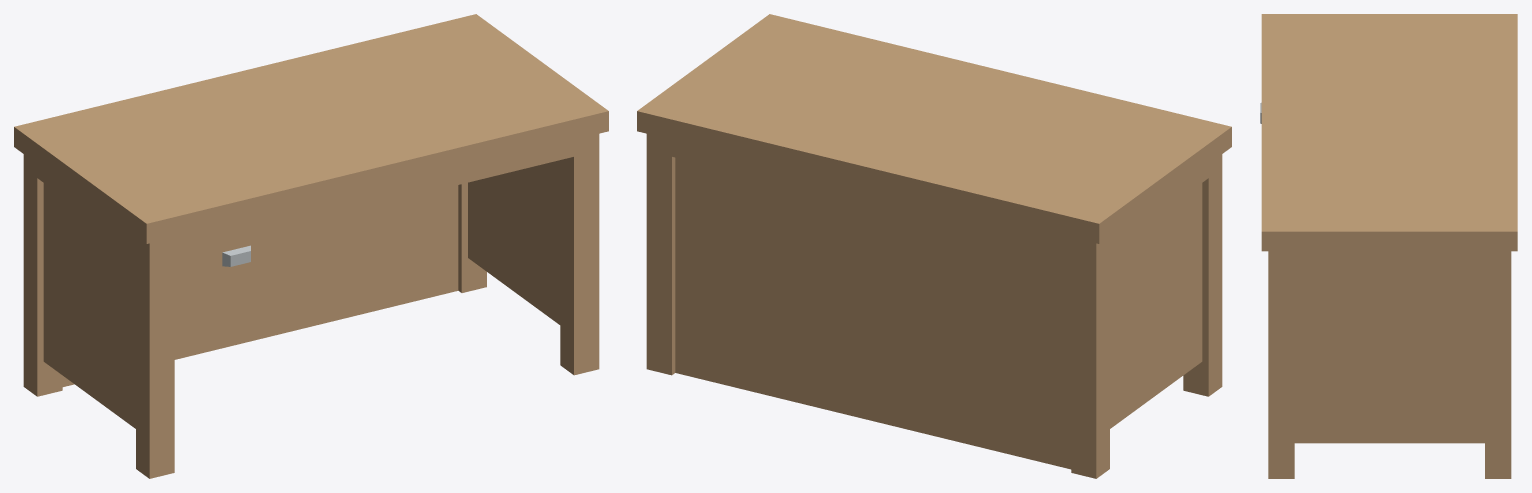
Rendered from desk.glb.
The picture shows the model from 3 angles, left to right: view 1: azimuth 30°, elevation 25°; view 2: azimuth 150°, elevation 25°; view 3: azimuth 270°, elevation 25°; orthographic projection. The views are drawn at different scales.
Visible parts, largest first — view 1: desk; view 2: desk; view 3: desk.
Boxes of the visible parts, x1,y1,x2,y2 form: desk: (14,14,608,478); desk: (637,14,1231,478); desk: (1260,14,1517,478).
Bounding box in the file's own units: 1.4 × 0.75 × 0.7.
